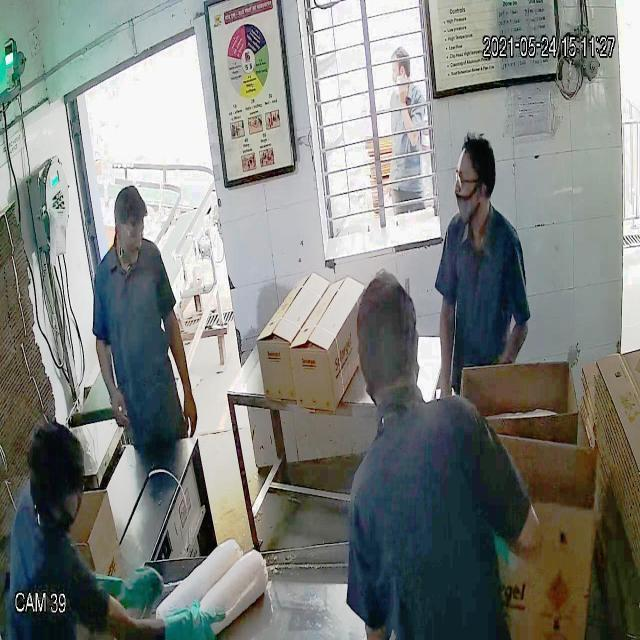glasses: (452, 162, 494, 199), (111, 214, 145, 243)
